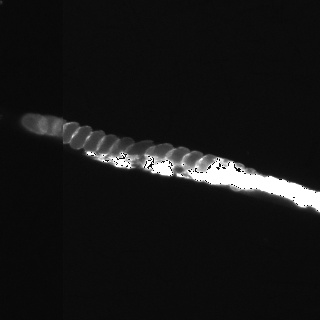embryo: (37, 115, 65, 137), (21, 113, 48, 134), (69, 126, 92, 149), (96, 134, 119, 153), (110, 137, 134, 155), (84, 130, 104, 151), (126, 140, 154, 155), (145, 143, 173, 158), (166, 147, 189, 164), (182, 151, 202, 169), (62, 122, 79, 143), (195, 154, 215, 170), (229, 184, 242, 192), (219, 158, 229, 168), (234, 163, 245, 172), (246, 168, 260, 175)
